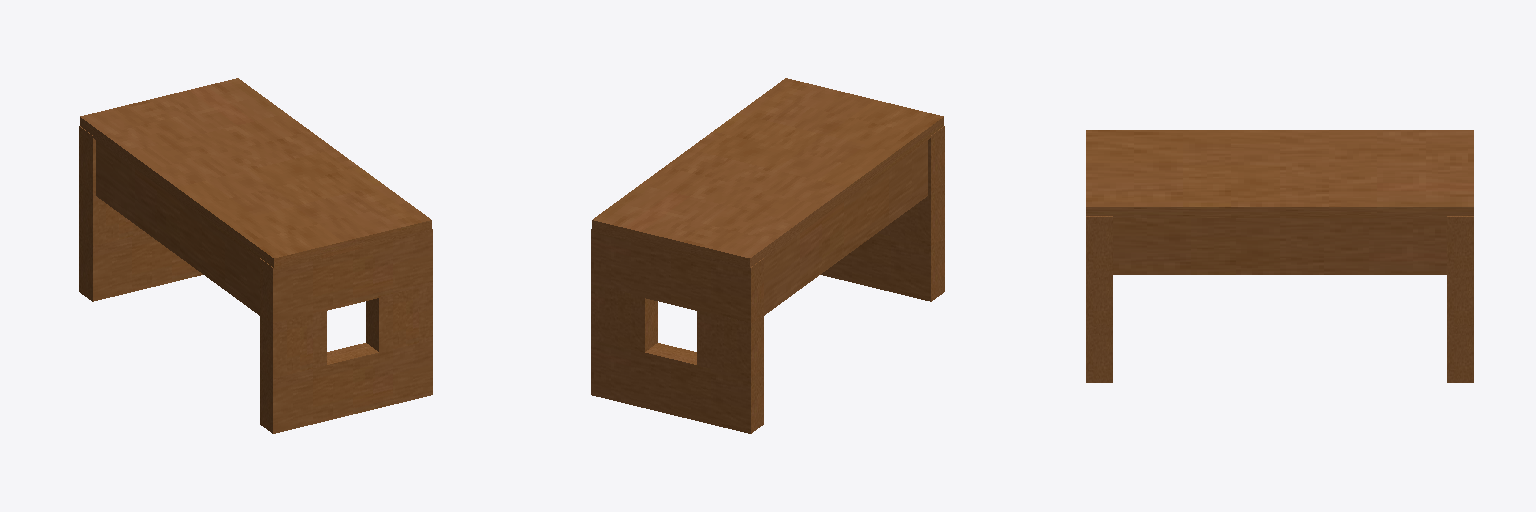
The picture shows the model from 3 angles: view 1: azimuth 30°, elevation 25°; view 2: azimuth 150°, elevation 25°; view 3: azimuth 270°, elevation 25°; orthographic projection.
Parts seen in each view (by area): view 1: polySurface5 pasted__group4_pasted__pasted__group1_pasted__paste, polySurface10, pasted__group4_pasted__pasted__group1_pasted__pasted__pasted__gr, polySurface3; view 2: polySurface5 pasted__group4_pasted__pasted__group1_pasted__paste, polySurface3, pasted__group4_pasted__pasted__group1_pasted__pasted__pasted__gr, polySurface10; view 3: polySurface5 pasted__group4_pasted__pasted__group1_pasted__paste, pasted__polySurface6 pasted__pasted__group4_pasted__pasted__grou, polySurface10, polySurface3.
Boxes of the visible parts, box(x1,y1,x2,y2) form: polySurface5 pasted__group4_pasted__pasted__group1_pasted__paste: box(80, 78, 431, 269); polySurface10: box(260, 229, 432, 433); pasted__group4_pasted__pasted__group1_pasted__pasted__pasted__gr: box(96, 140, 259, 315); polySurface3: box(79, 126, 202, 301); polySurface5 pasted__group4_pasted__pasted__group1_pasted__paste: box(592, 78, 943, 269); polySurface3: box(591, 229, 763, 433); pasted__group4_pasted__pasted__group1_pasted__pasted__pasted__gr: box(764, 140, 927, 315); polySurface10: box(821, 126, 944, 301); polySurface5 pasted__group4_pasted__pasted__group1_pasted__paste: box(1086, 130, 1473, 217); pasted__polySurface6 pasted__pasted__group4_pasted__pasted__grou: box(1113, 218, 1446, 274); polySurface10: box(1086, 216, 1112, 382); polySurface3: box(1447, 216, 1473, 382).
Bounding box in the file's own units: 1.98 × 2.08 × 4.17.
2 materials, 1 textured.